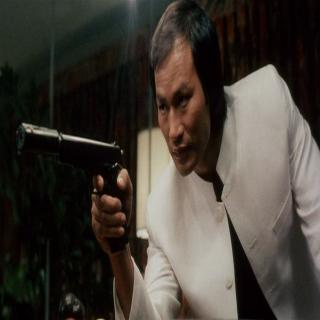gun: (14, 104, 140, 264)
